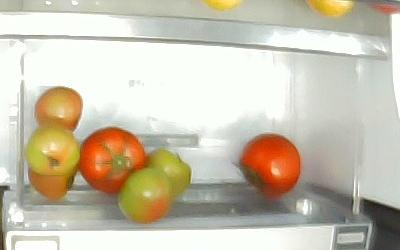tomato: (80, 127, 147, 195), (231, 132, 301, 196), (117, 167, 172, 223), (25, 126, 80, 176), (146, 148, 192, 196), (35, 87, 83, 133), (26, 166, 75, 201)
